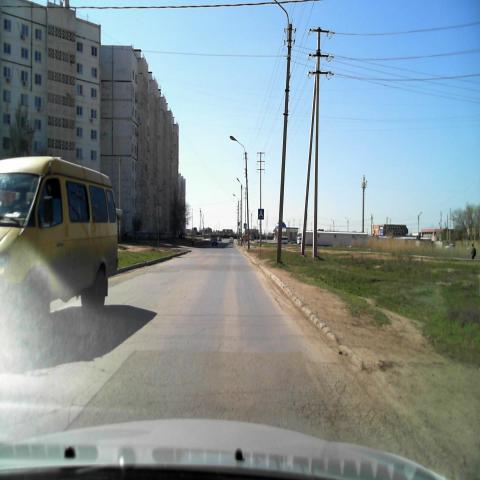5_20: (258, 208, 264, 220)
